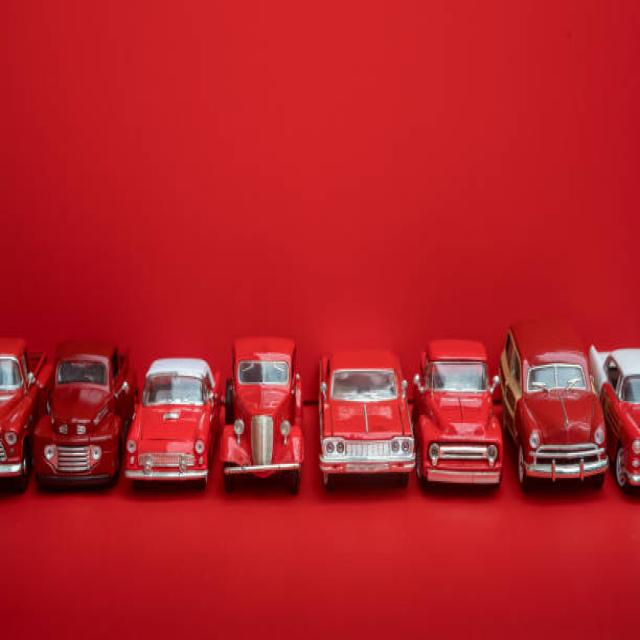Car: (498, 319, 608, 491), (31, 338, 136, 489), (411, 338, 503, 489), (317, 348, 415, 489), (218, 335, 304, 494), (123, 355, 220, 489), (0, 335, 51, 492), (588, 343, 639, 492)
